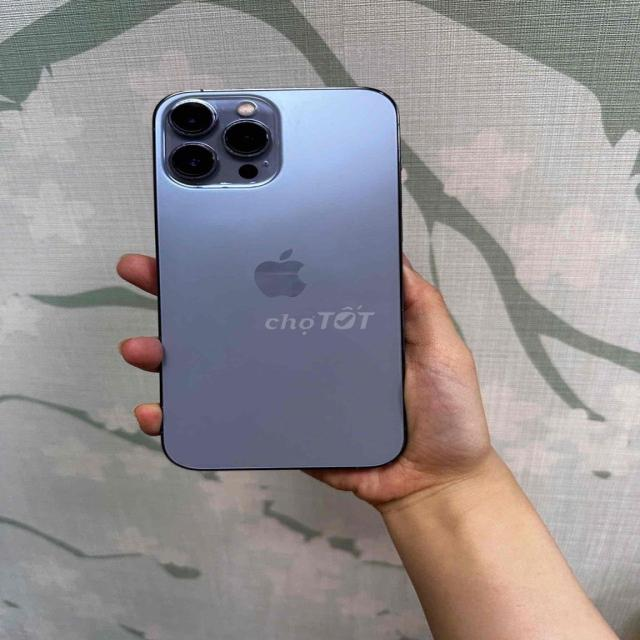gen_12_13: (133, 90, 420, 480)
